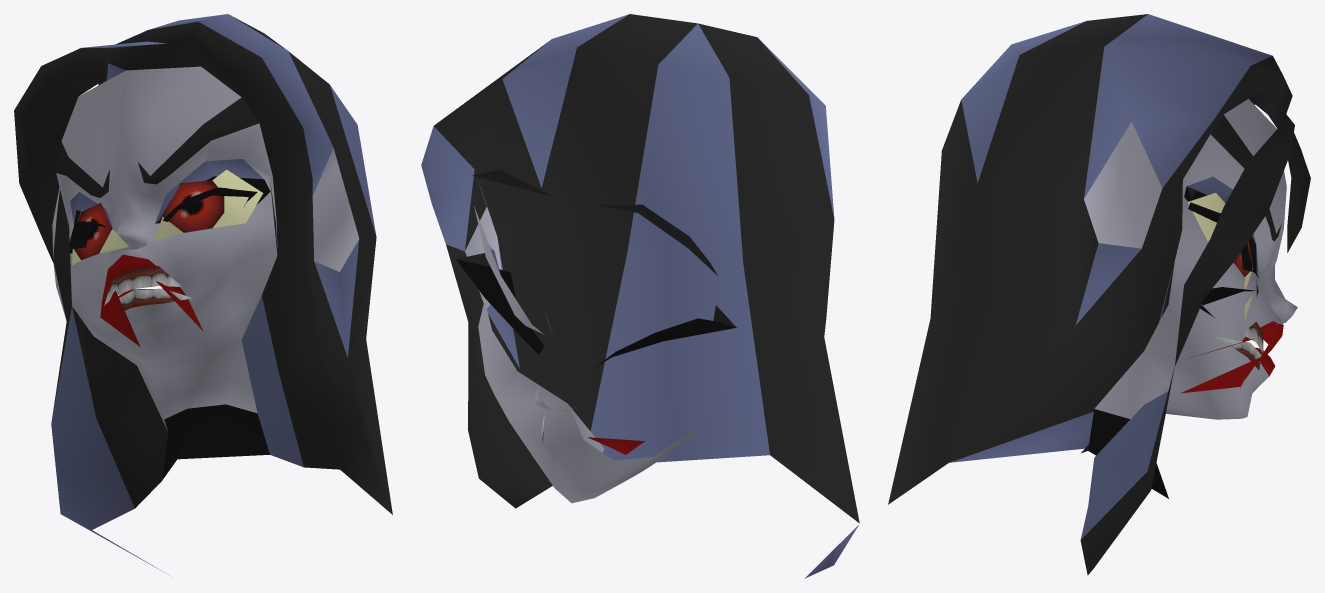
The model's file is ps2_save-icons_neopetsthedarkestfaerie.glb.
3 renders of one model, left to right at view 1: azimuth 30°, elevation 25°; view 2: azimuth 150°, elevation 25°; view 3: azimuth 270°, elevation 25°, orthographic. The views are drawn at different scales.
Parts seen in each view (by area): view 1: icon1.ico; view 2: icon1.ico; view 3: icon1.ico.
Boxes of the visible parts, x1,y1,x2,y2 form: icon1.ico: (14, 14, 392, 575); icon1.ico: (421, 14, 859, 578); icon1.ico: (888, 14, 1310, 575).
Size of the model in its own units: 3.3 by 4.66 by 3.76.
1 material, 1 textured.
